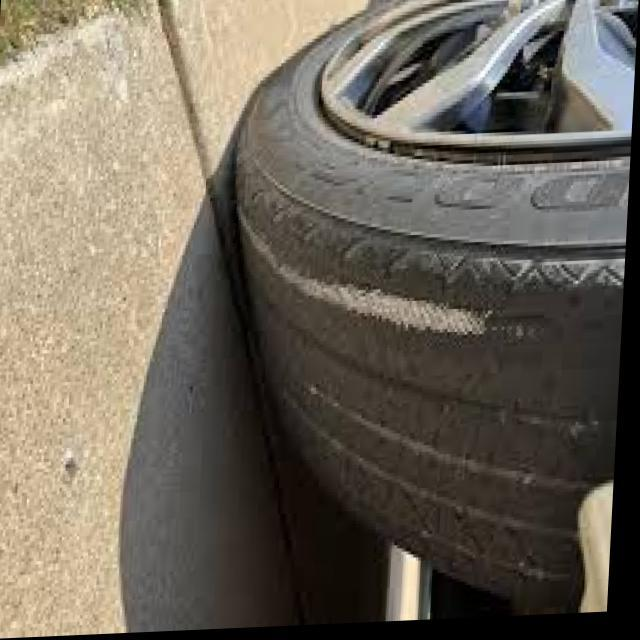Flat spots: (248, 287, 617, 442), (326, 448, 568, 526)
